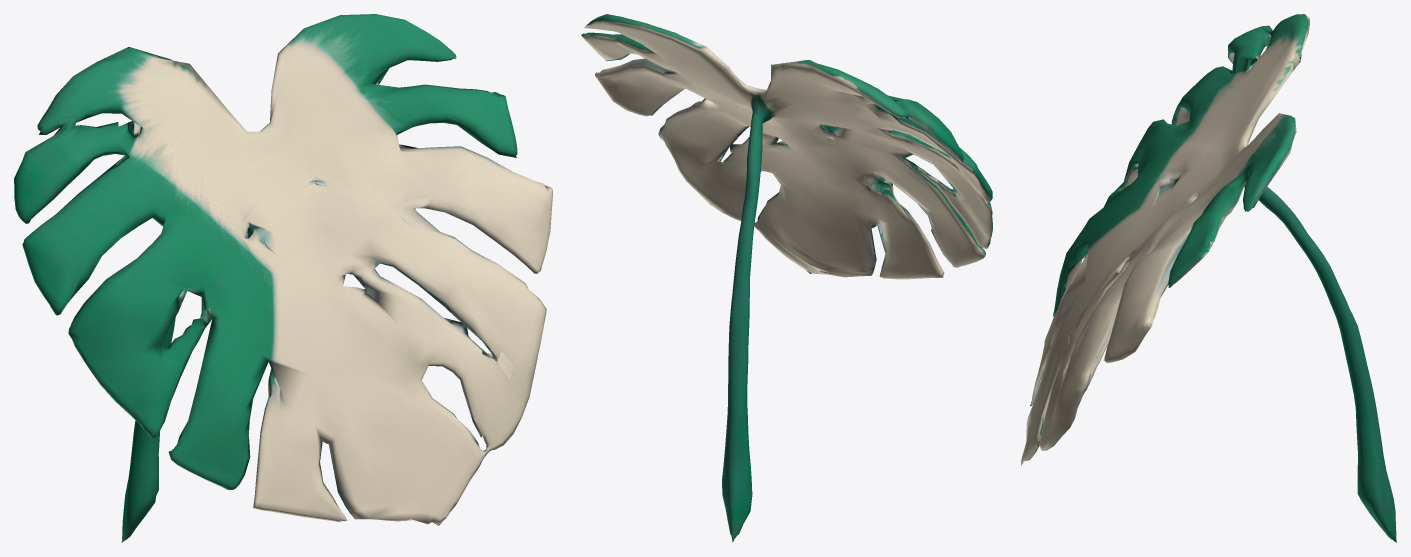
File: mon_halfmoon_greencream_v1.glb
3 views of the same model, side by side, from view 1: azimuth 30°, elevation 25°; view 2: azimuth 150°, elevation 25°; view 3: azimuth 270°, elevation 25° (orthographic). The views are drawn at different scales.
Parts seen in each view (by area): view 1: world; view 2: world; view 3: world.
Part boxes in pixels (x1=…): world: x1=14, y1=14, x2=552, y2=542; world: x1=581, y1=14, x2=992, y2=542; world: x1=1021, y1=14, x2=1396, y2=542.
Bounding box in the file's own units: 1.88 × 2 × 1.37.
Materials: 1 (1 with a texture image).
